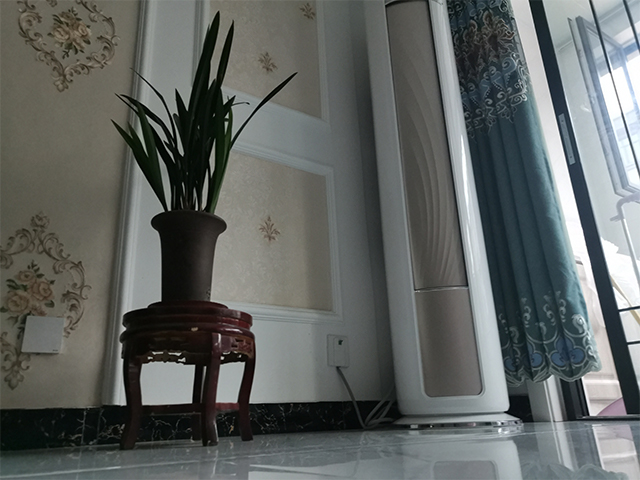curtain: (444, 1, 602, 388)
stool: (116, 299, 258, 453)
wire: (335, 366, 398, 432)
